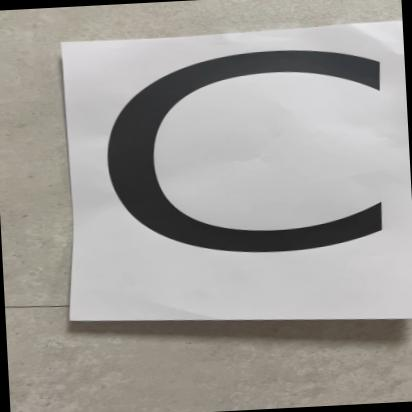seat: (41, 9, 412, 341)
